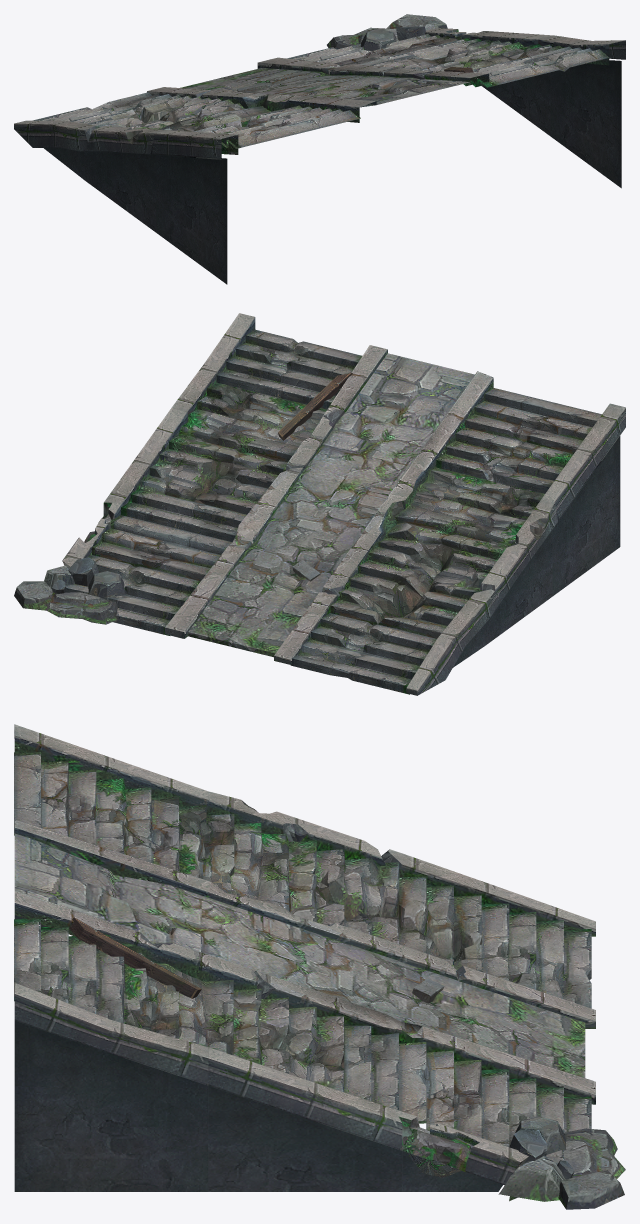
The model's file is Item_8.FBX.
The picture shows the model from 3 angles, top to bottom: view 1: azimuth 30°, elevation 25°; view 2: azimuth 150°, elevation 25°; view 3: azimuth 270°, elevation 25°; orthographic projection. The views are drawn at different scales.
Parts seen in each view (by area): view 1: Item_8; view 2: Item_8; view 3: Item_8.
Boxes of the visible parts, x1,y1,x2,y2 form: Item_8: (14,14,625,284); Item_8: (14,313,625,695); Item_8: (14,724,625,1209).
Size of the model in its own units: 511 by 180 by 461.
